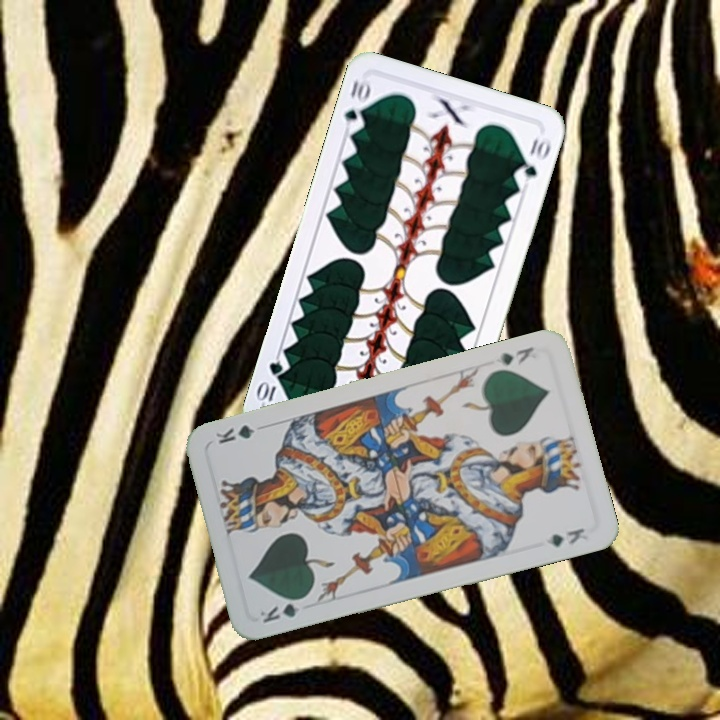G10: (340, 74, 374, 135)
GK: (256, 592, 310, 626), (496, 342, 536, 368)
